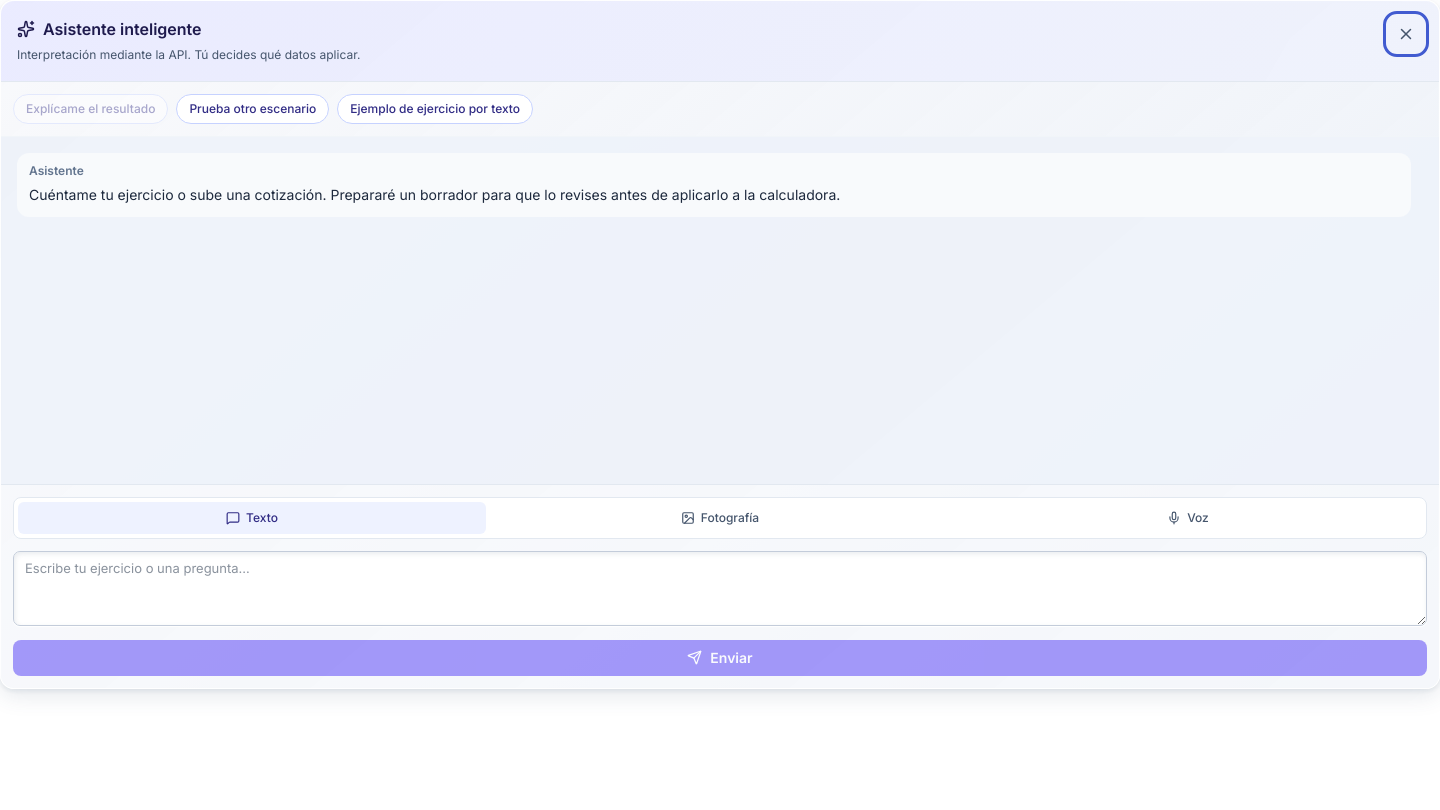
Test: Espera amable sin volver a ingresar datos › agotada la espera permite reusar exactamente el contexto original sin duplicar el mensaje
In the text box named "Mensaje para el asistente": (720, 588) [13,551,1427,626], type "Un mensaje guardado"
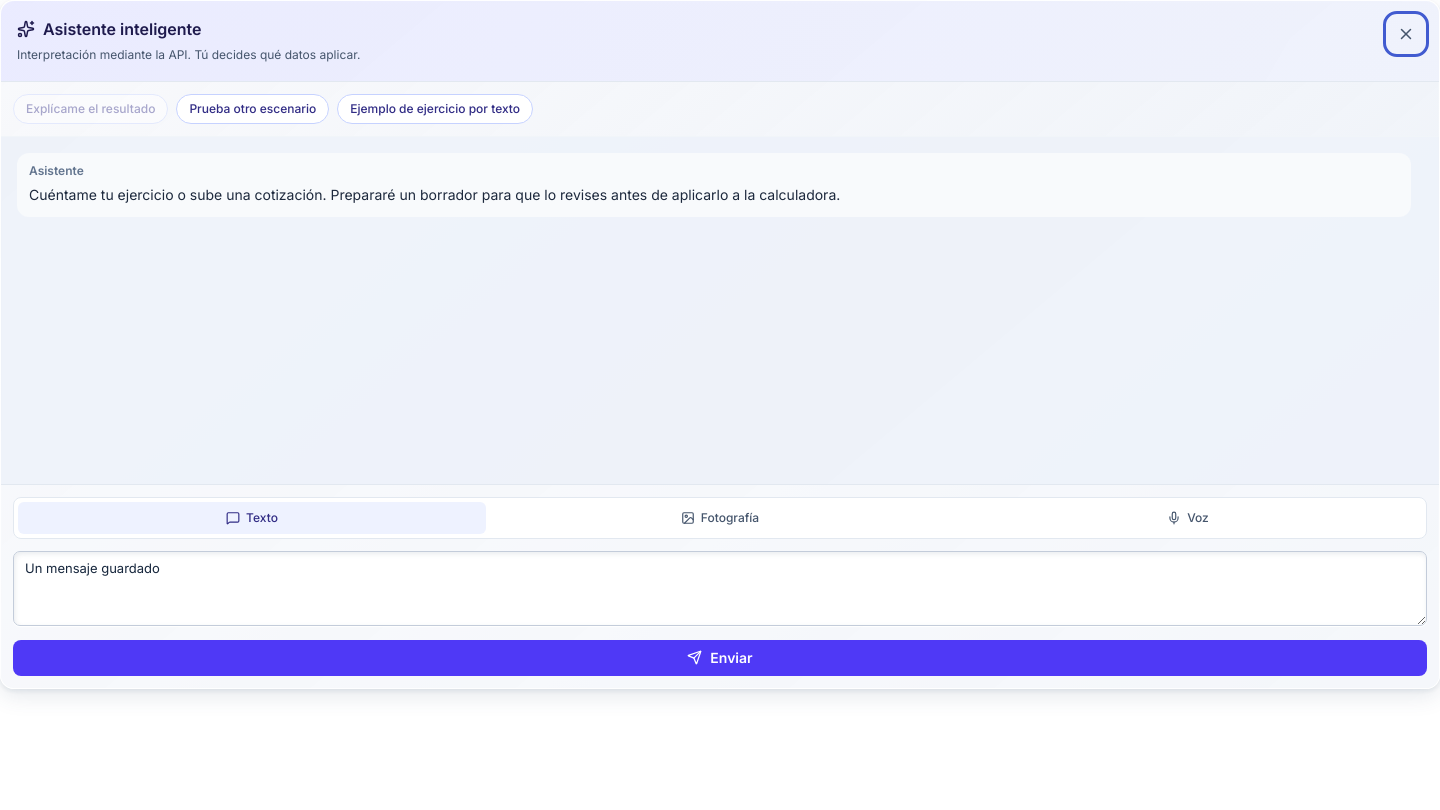
Click the button "Enviar": (720, 658) [13,640,1427,676]
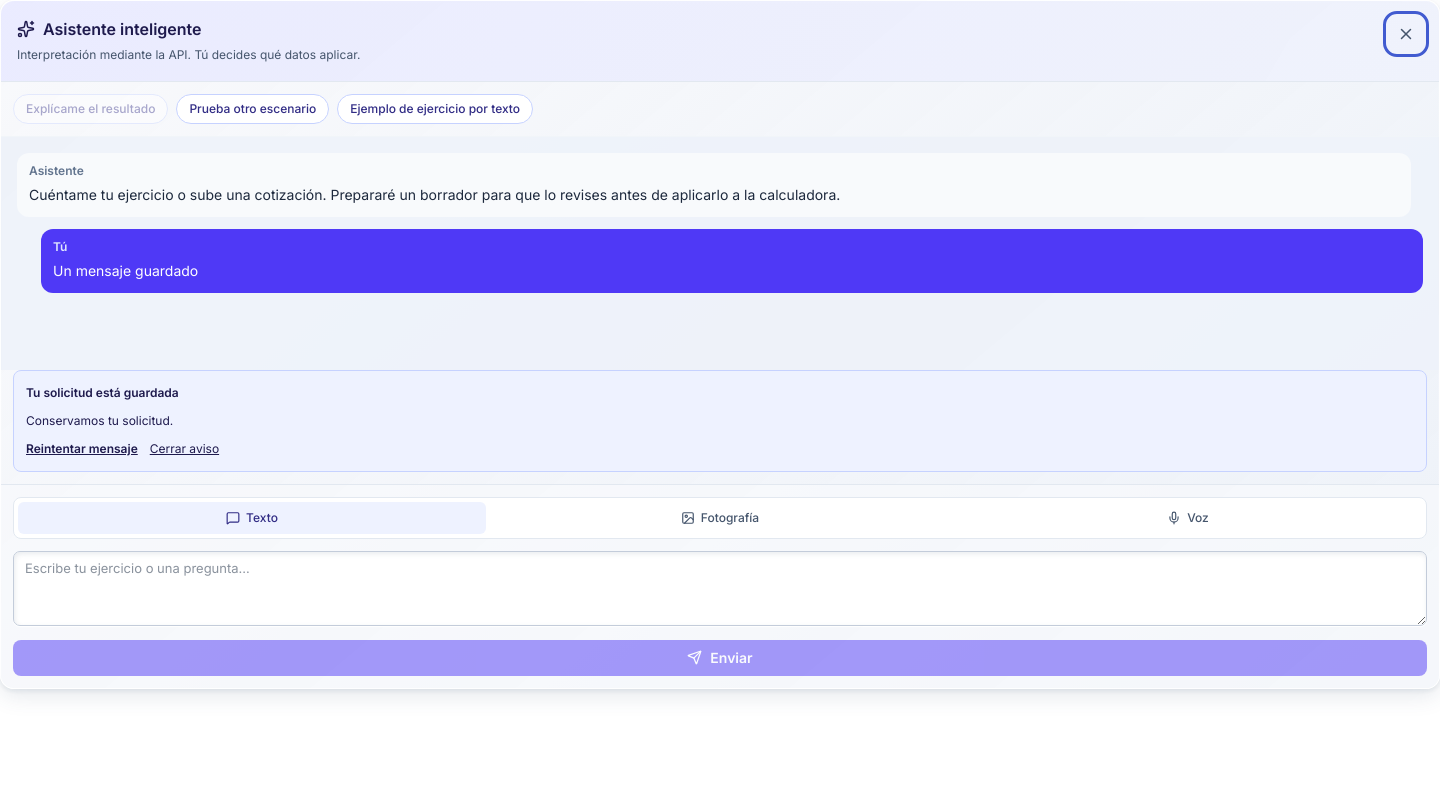
expect the text "Tu solicitud está guardada" is shown: met, box [26,385,179,400]
Click the button "Reintentar mensaje": (82, 449) [26,439,138,459]
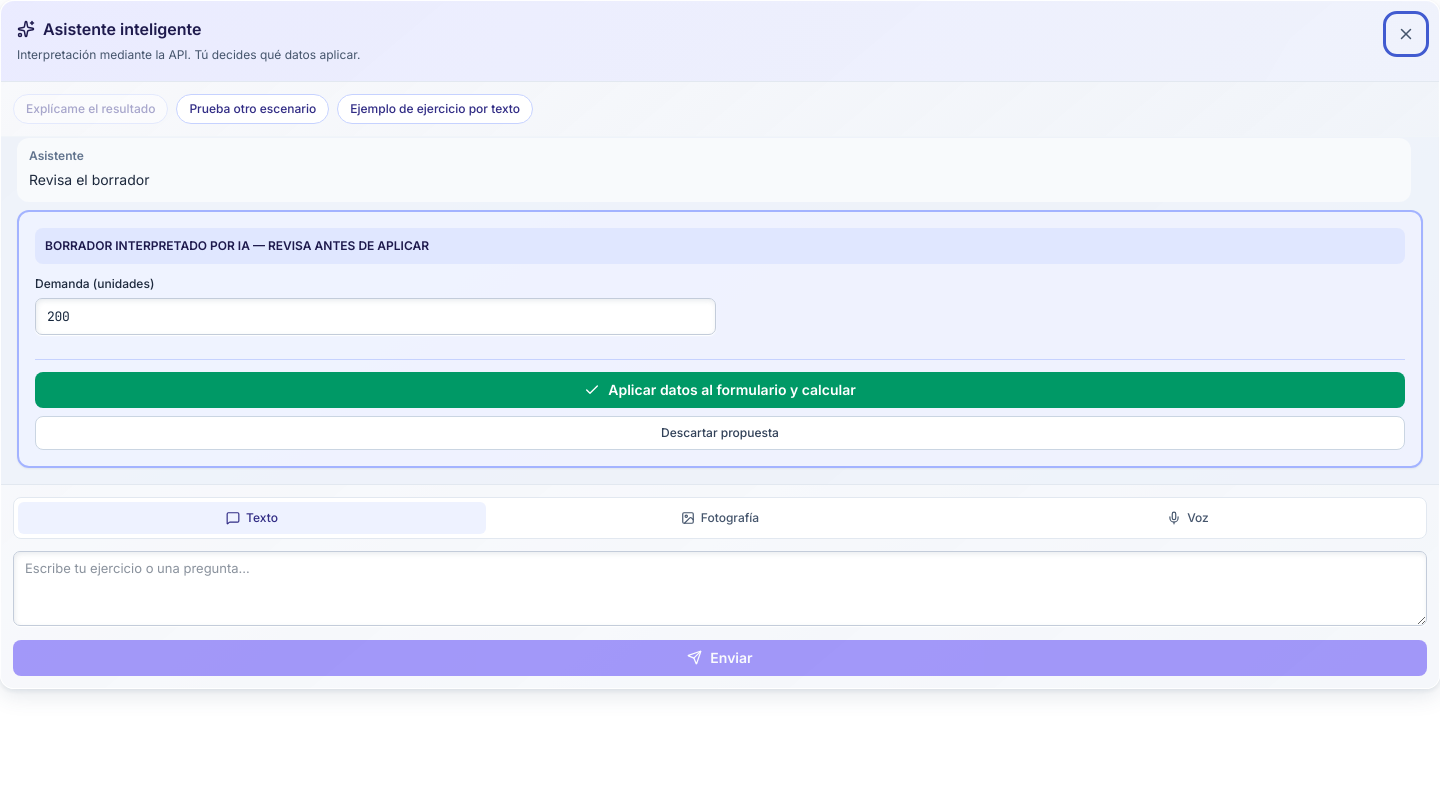
expect the text "Revisa el borrador" is shown: met, box [29,171,150,188]
